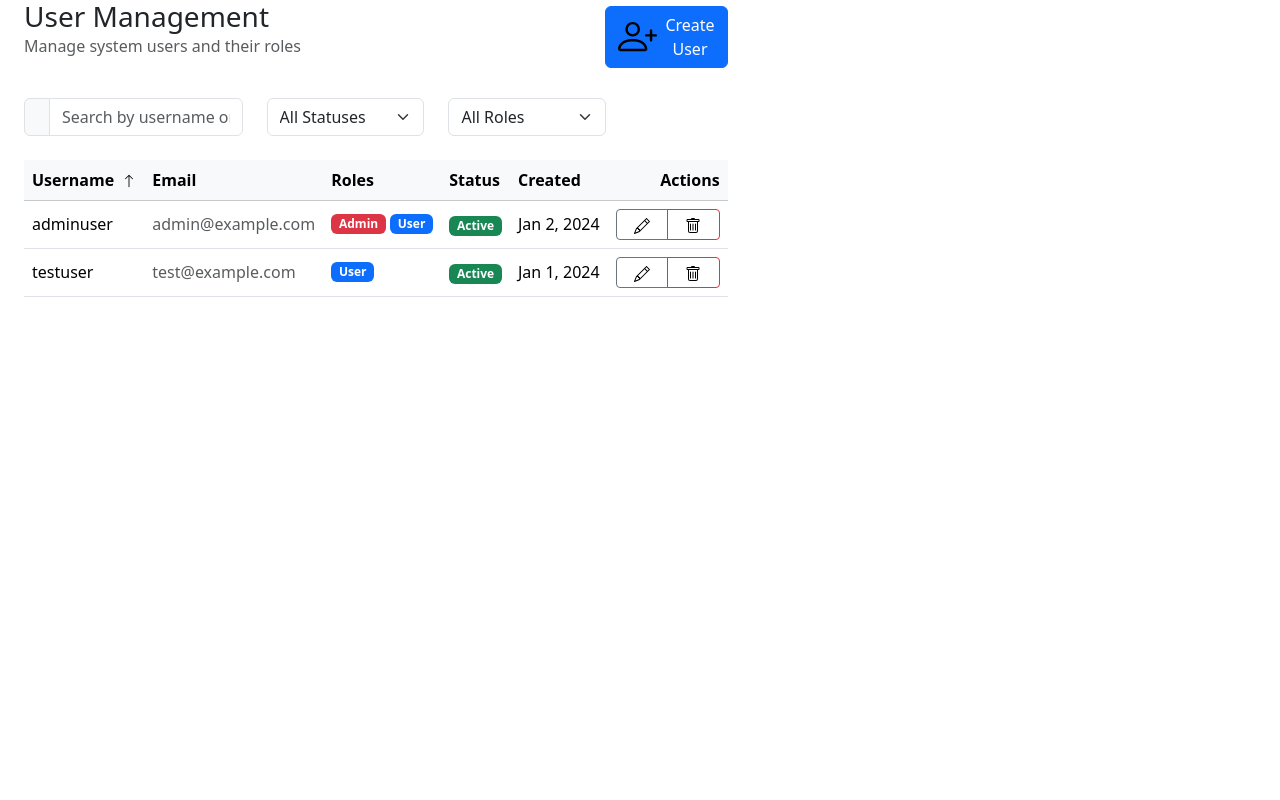
Test case: UserManagementPage Integration Tests › Create User Flow › should create a new user successfully
expect the text "testuser" is shown: met, box [32, 261, 93, 283]
Step 1. Click the button "Create User" → (666, 37), box [605, 6, 728, 68]
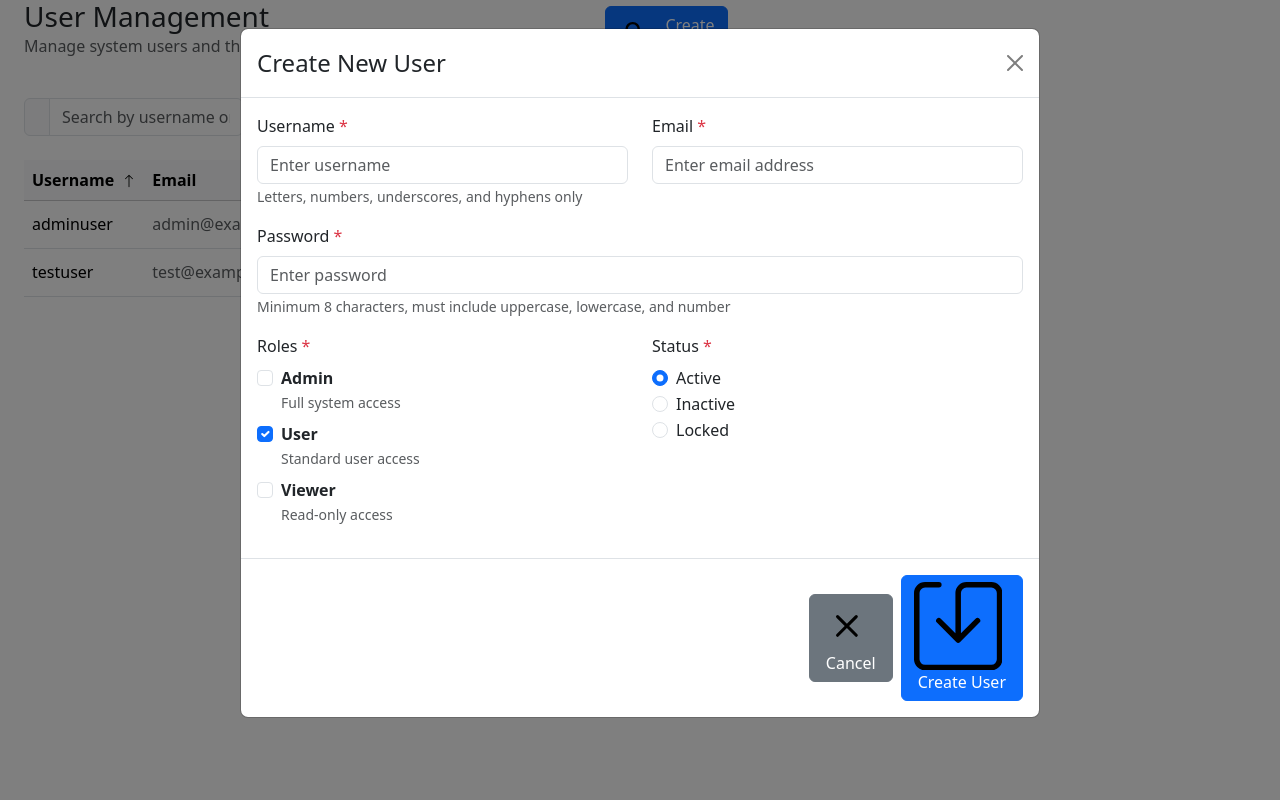
expect the text "Create New User" is shown: met, box [257, 45, 446, 81]
Step 2. Type "newuser" into the field labelled "Username *" → (442, 165), box [257, 146, 628, 184]
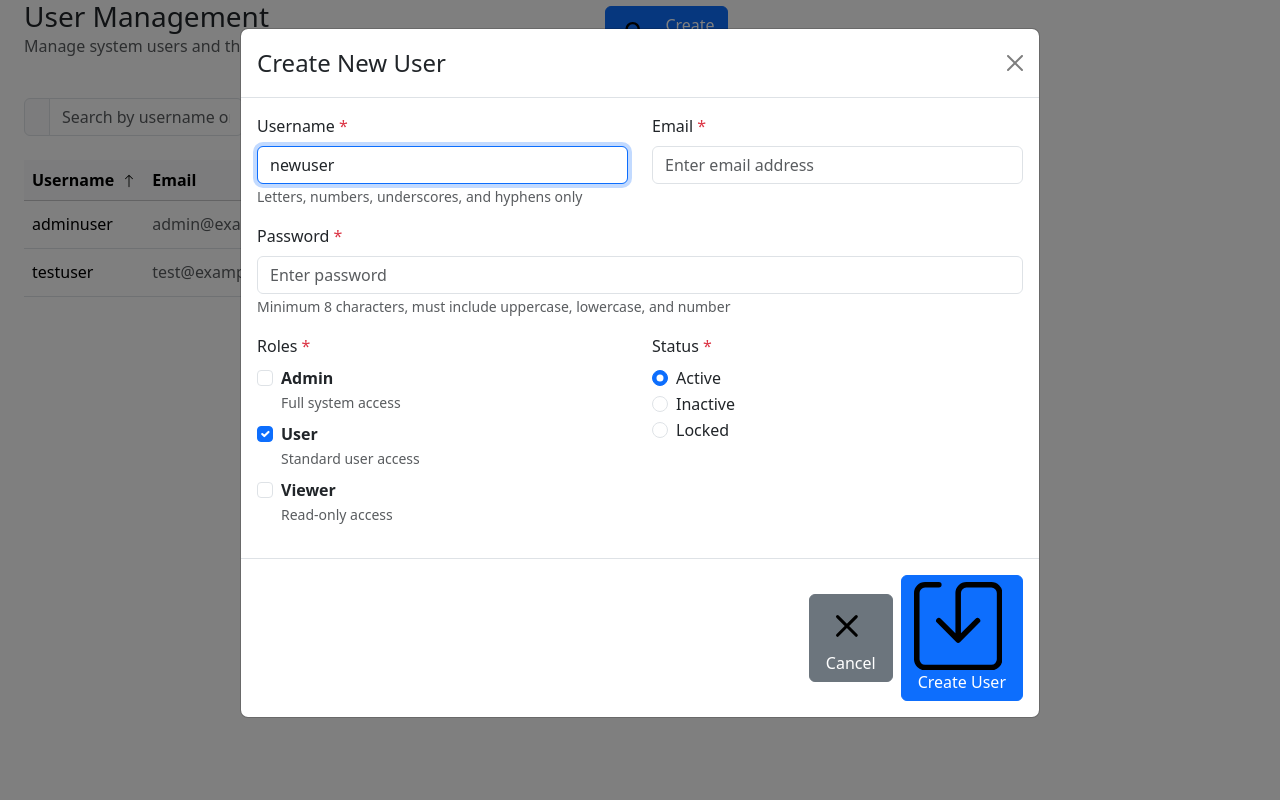
Step 3. Type "newuser@example.com" into the field labelled "Email *" → (838, 165), box [652, 146, 1023, 184]
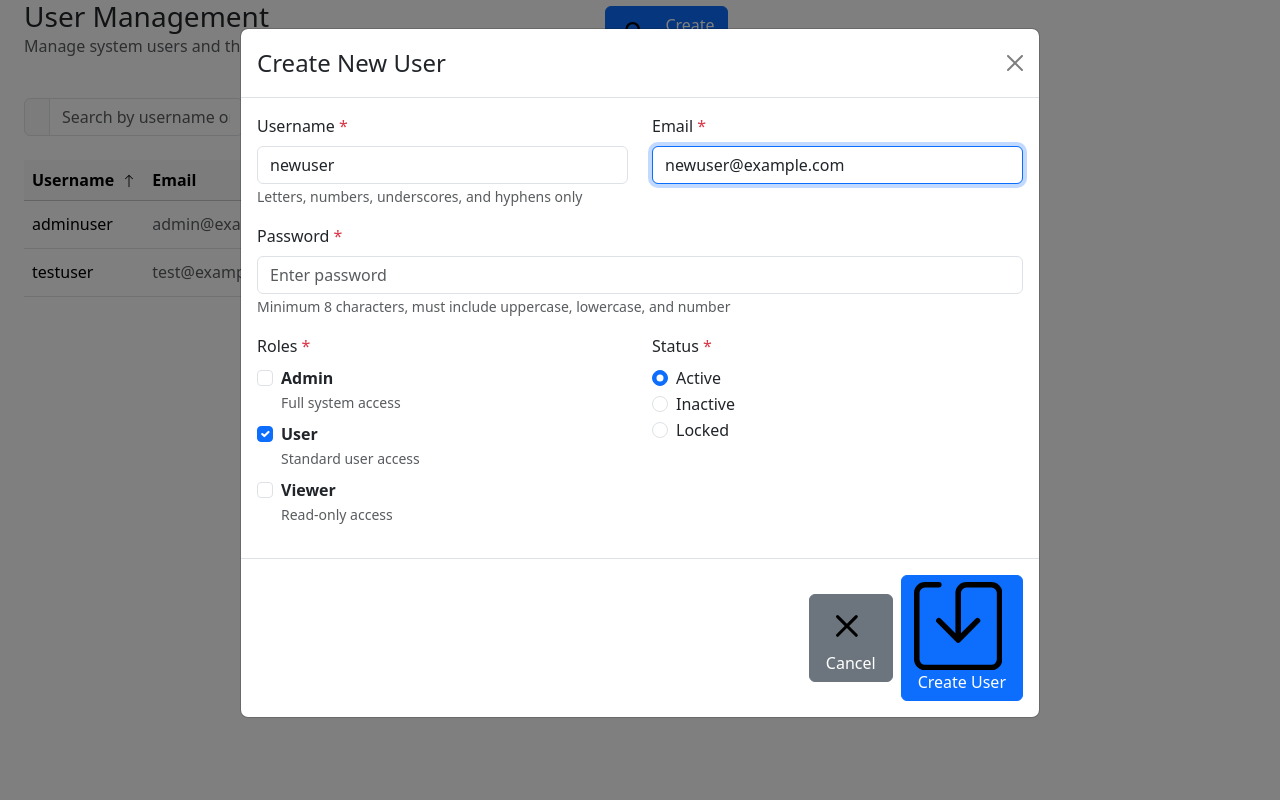
Step 4. Type "Password123" into the password field labelled "Password *" → (640, 275), box [257, 256, 1023, 294]
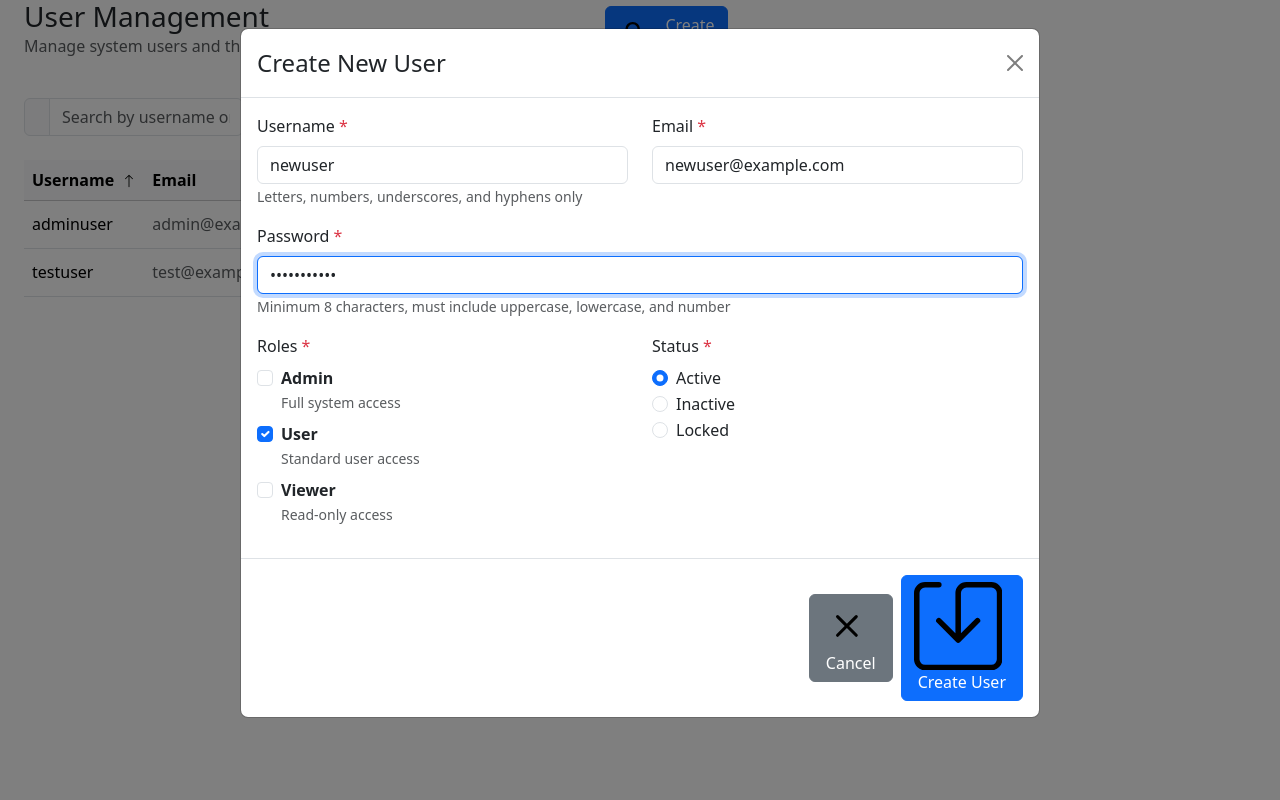
Step 5. Click the button "Create User" → (962, 638), box [901, 575, 1023, 701]
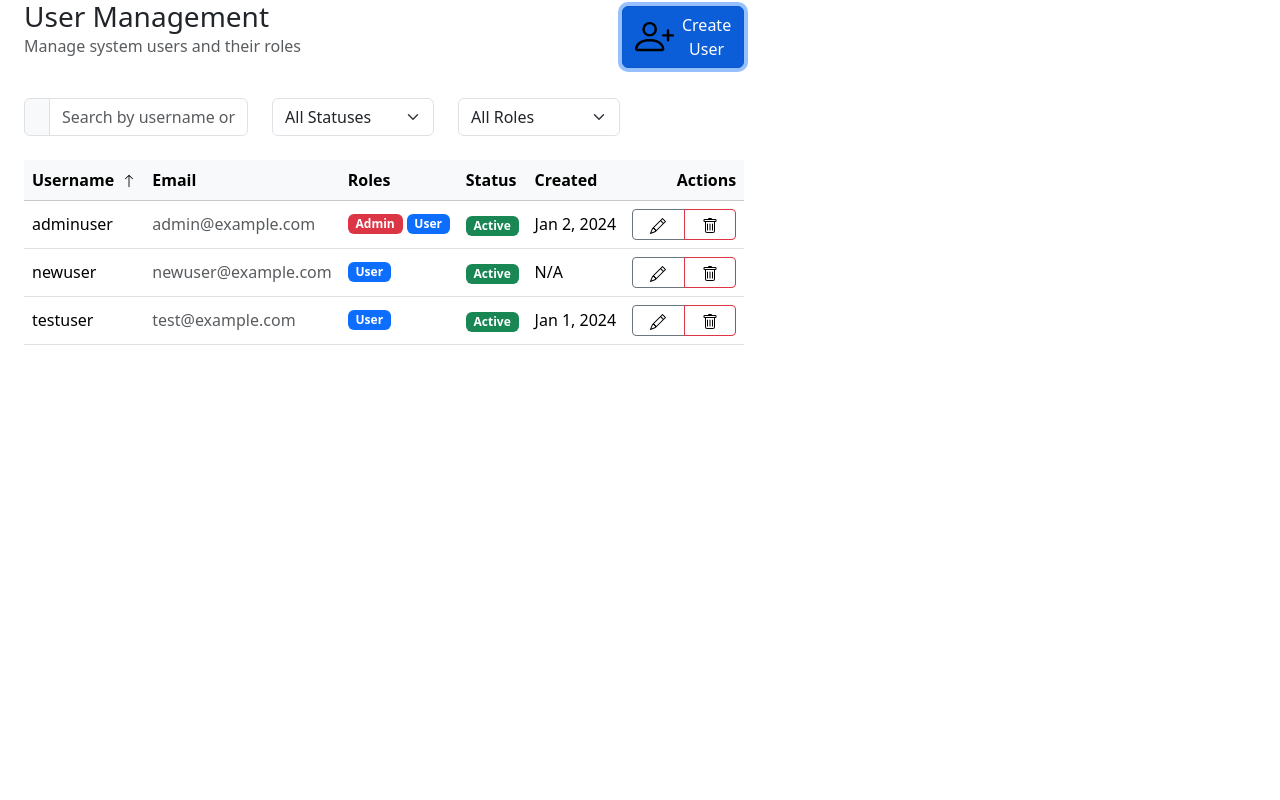
expect the text "Create New User" is gone: met
